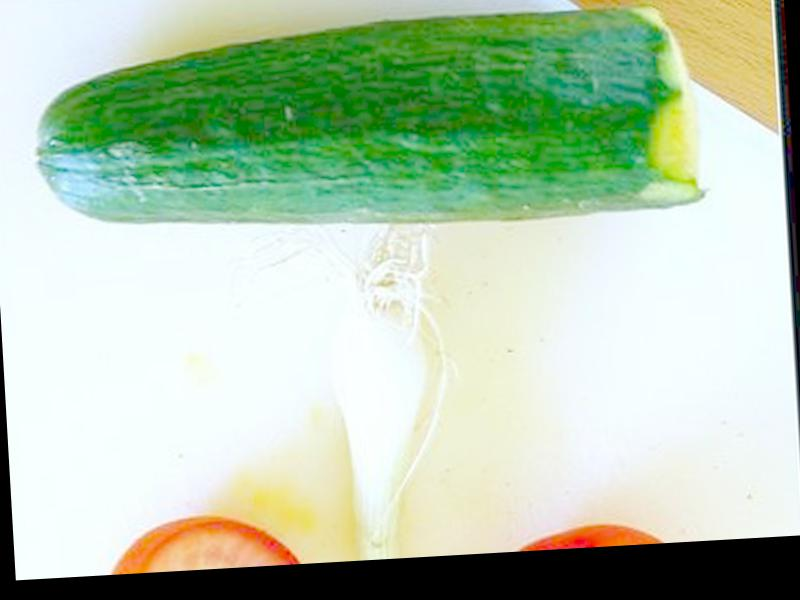Cucumber: (25, 0, 706, 244)
